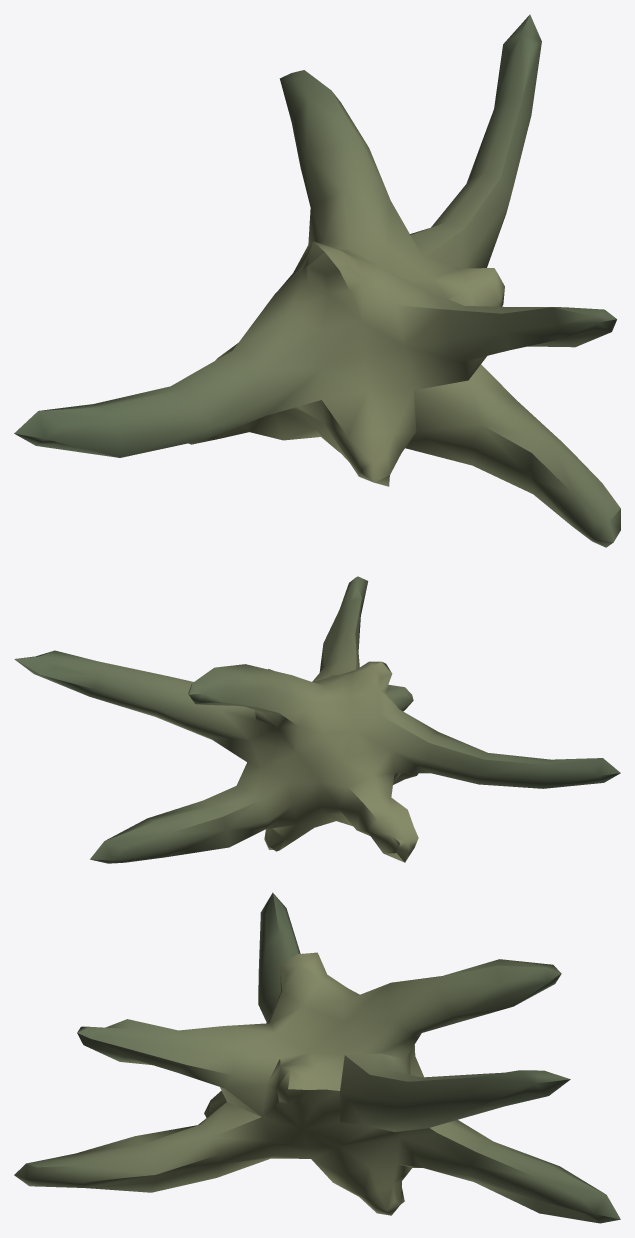
File: microscopic-protists-amoeba_v5.fbx
3 views of the same model, one above another, from view 1: azimuth 30°, elevation 25°; view 2: azimuth 150°, elevation 25°; view 3: azimuth 270°, elevation 25° (orthographic). The views are drawn at different scales.
Parts seen in each view (by area): view 1: Amoeba_v5; view 2: Amoeba_v5; view 3: Amoeba_v5.
Part boxes in pixels (box(x1,y1,x2,y2)): Amoeba_v5: box(14, 14, 620, 547); Amoeba_v5: box(14, 576, 620, 863); Amoeba_v5: box(14, 892, 620, 1223).
Bounding box in the file's own units: 0.3 × 0.1248 × 0.2671.
